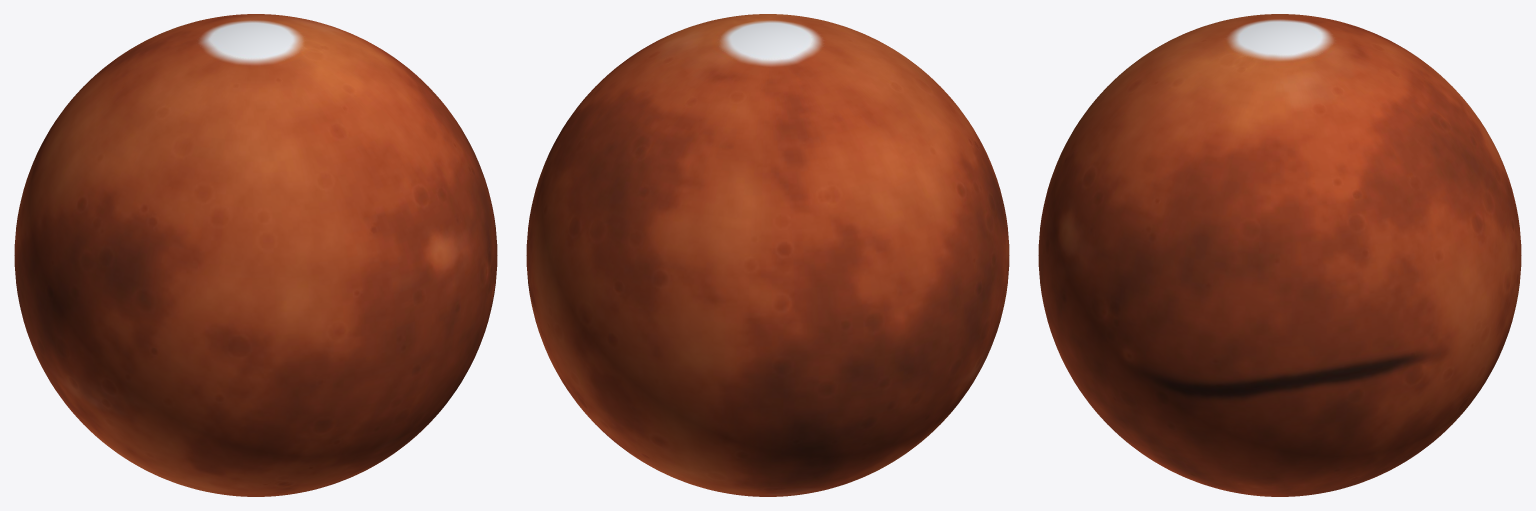
Rendered from marte.glb.
The picture shows the model from 3 angles, left to right: view 1: azimuth 30°, elevation 25°; view 2: azimuth 150°, elevation 25°; view 3: azimuth 270°, elevation 25°; orthographic projection.
Parts seen in each view (by area): view 1: PlanetaMarte; view 2: PlanetaMarte; view 3: PlanetaMarte.
Boxes of the visible parts, bbox=[...] form: PlanetaMarte: bbox=[14, 14, 497, 496]; PlanetaMarte: bbox=[526, 14, 1009, 496]; PlanetaMarte: bbox=[1038, 14, 1521, 496].
Bounding box in the file's own units: 2 × 2 × 2.
1 material, 1 textured.
